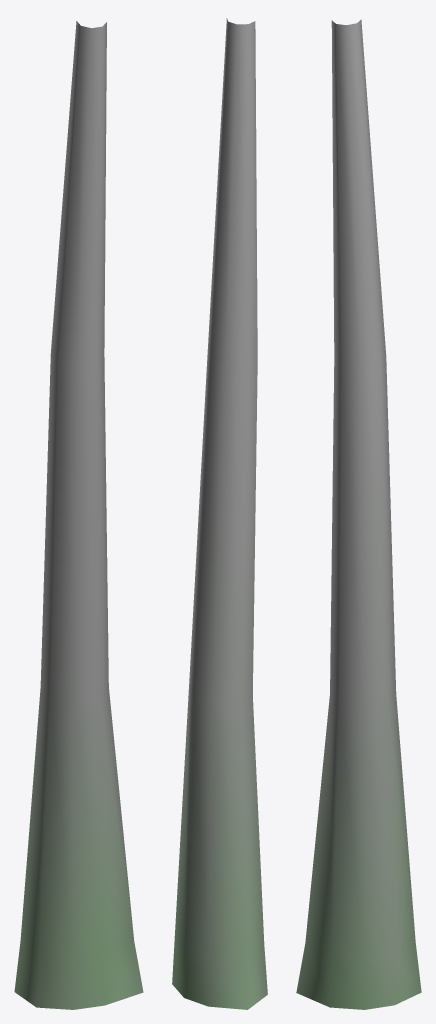
Rendered from jungleB_bark_lod2.glb.
3 renders of one model, left to right at view 1: azimuth 90°, elevation 25°; view 2: azimuth 210°, elevation 25°; view 3: azimuth 270°, elevation 25°, orthographic. The views are drawn at different scales.
Parts seen in each view (by area): view 1: jungleB; view 2: jungleB; view 3: jungleB.
Boxes of the visible parts, box(x1,y1,x2,y2) form: jungleB: box(14, 21, 143, 1009); jungleB: box(172, 18, 267, 1009); jungleB: box(296, 19, 421, 1009).
Bounding box in the file's own units: 2.8 × 32.54 × 3.85.
